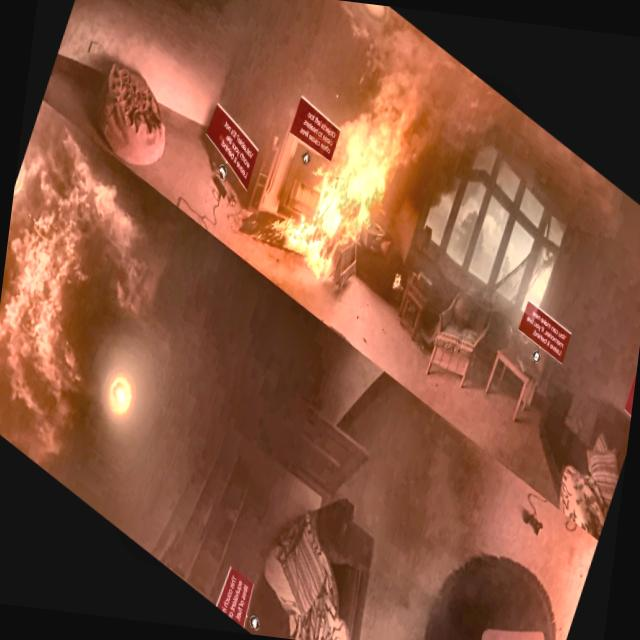fire: (273, 0, 456, 318)
